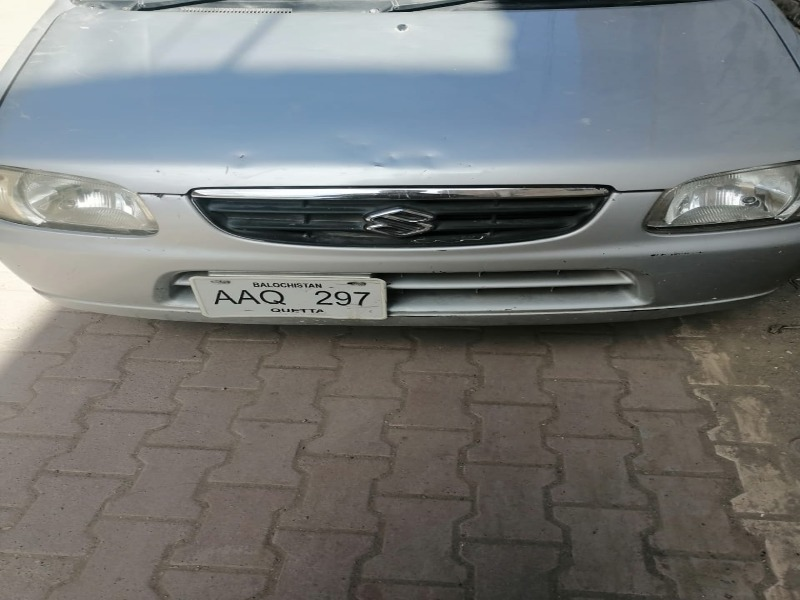License Plate: (182, 267, 394, 338)
